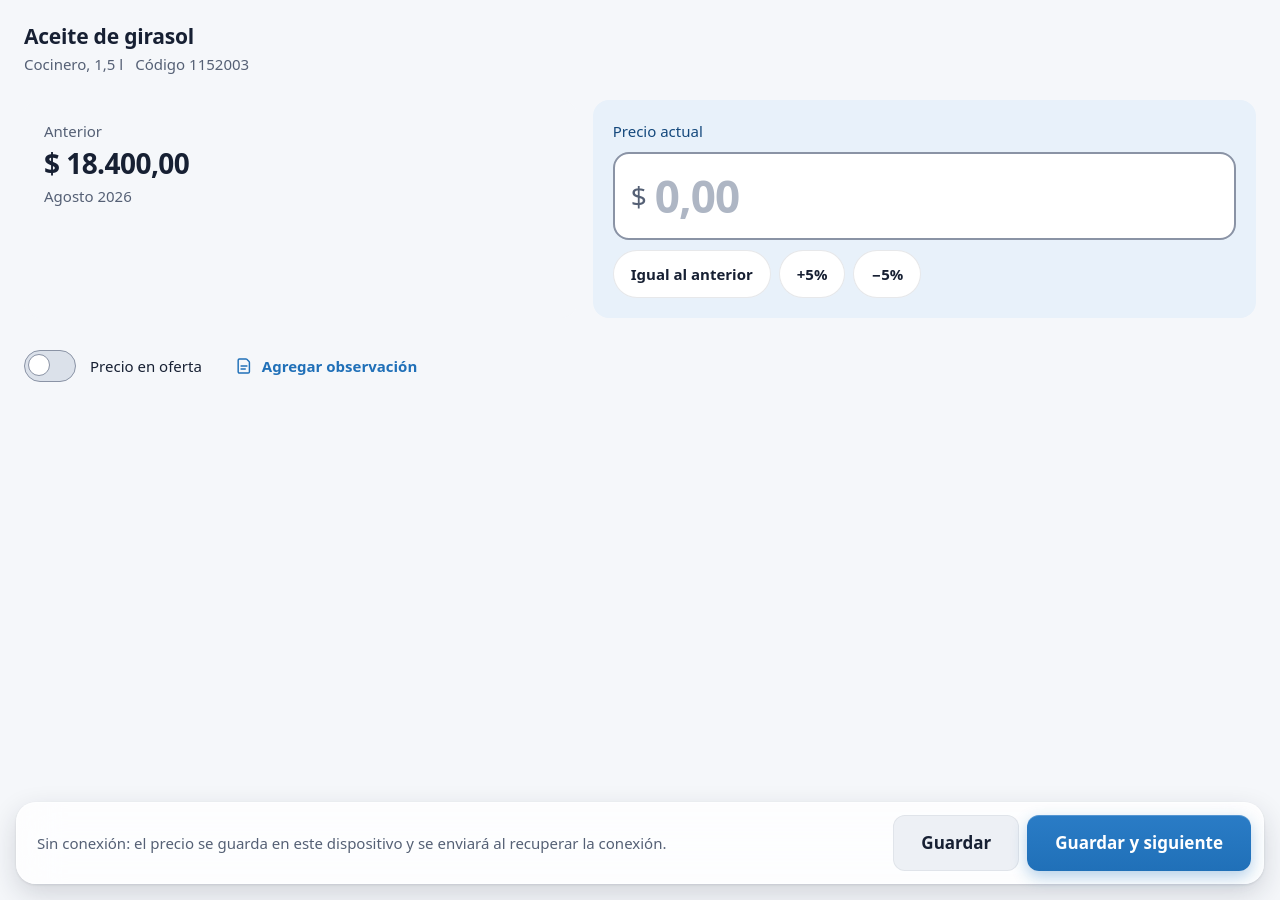
Scenario: PriceEditor › keeps saving enabled offline and says the price will be sent on reconnect
In the field labelled "Precio actual": (936, 196) [655,170,1218,223], type "100"
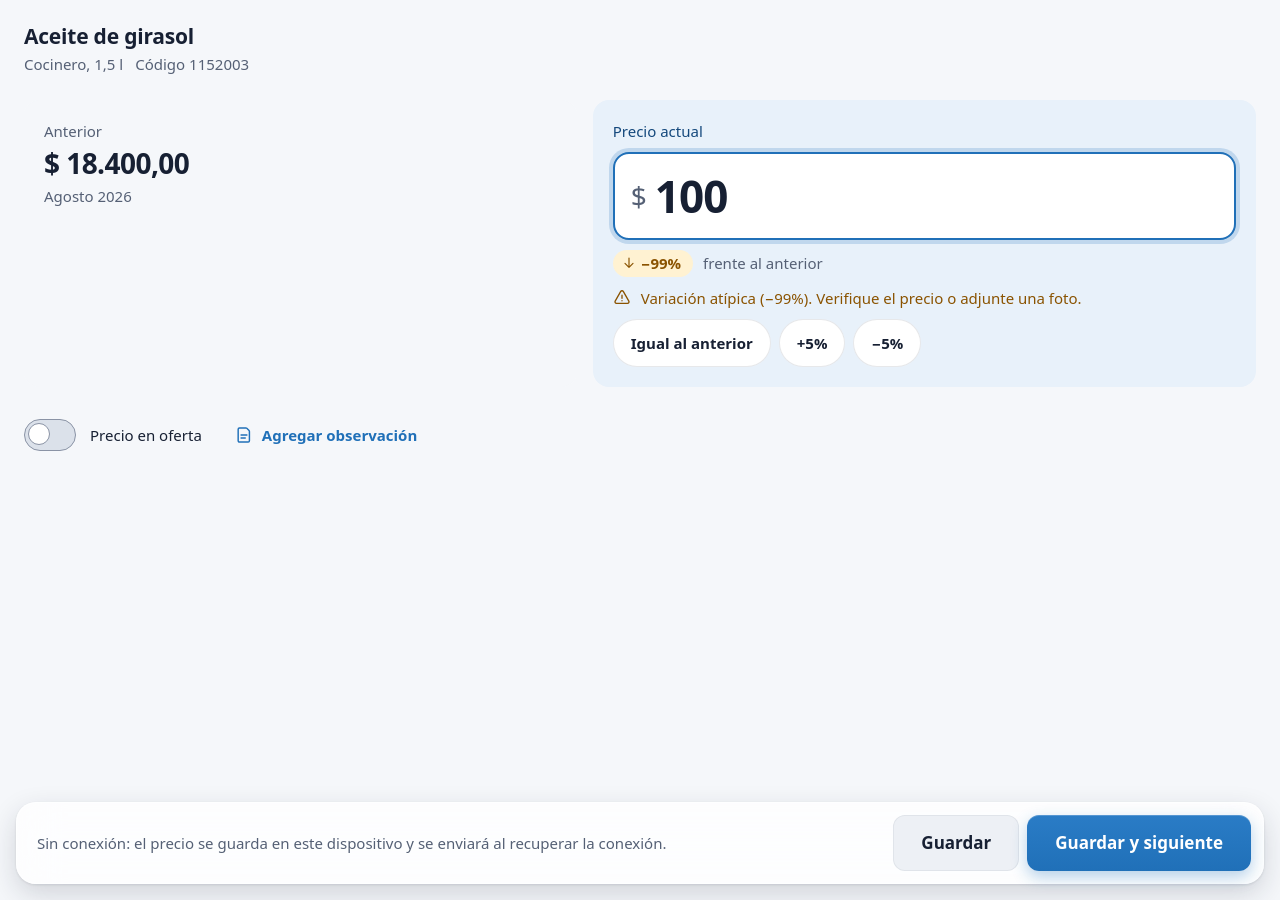
Expected: the button "Guardar y siguiente" is enabled, [1027,815,1251,871]
Expected: the text "se enviará al recuperar la conexión" is shown, [37,833,666,853]
Click the button "Guardar": (956, 843) [893,815,1019,871]
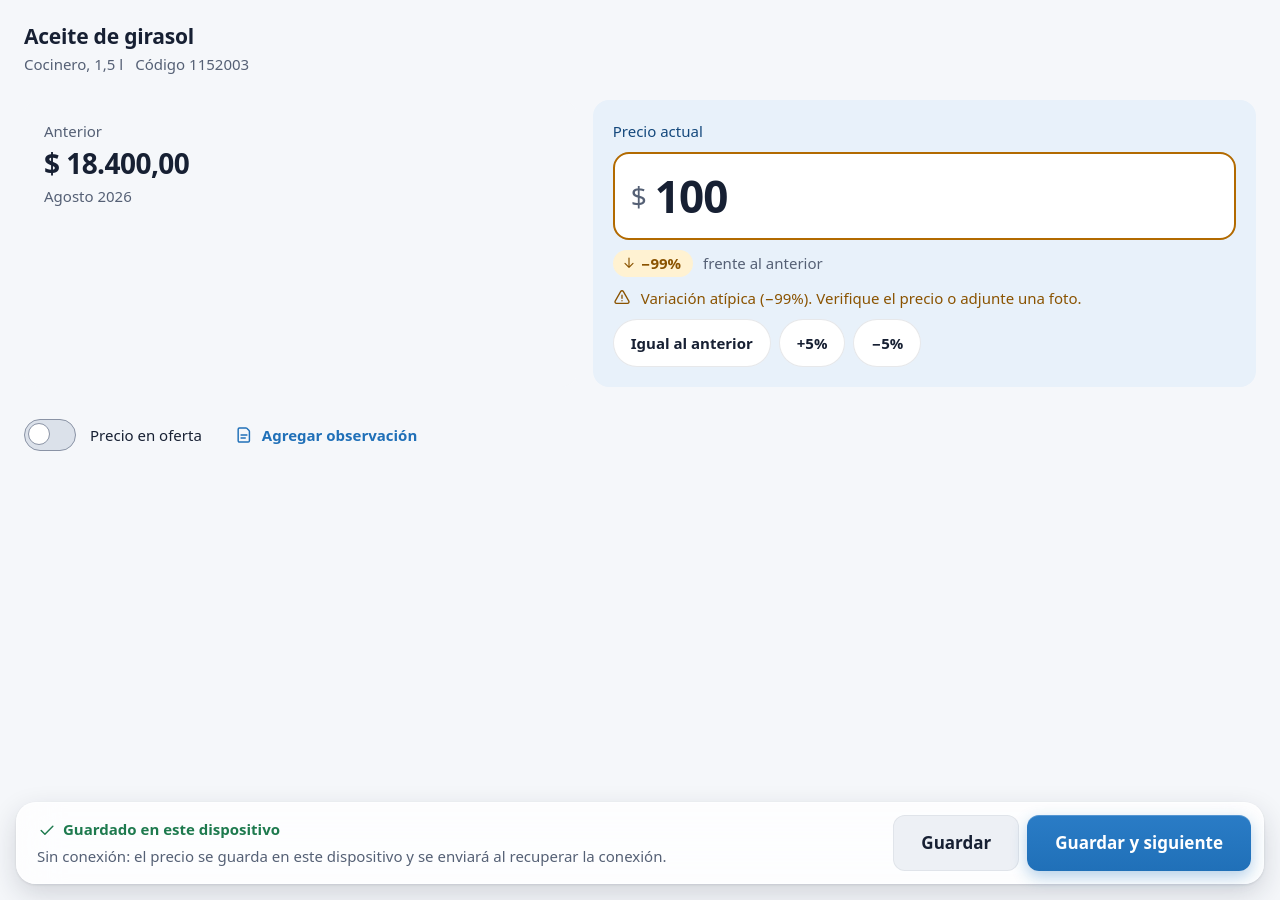
Now the text "Guardado en este dispositivo" is shown, box [37,818,280,841]
